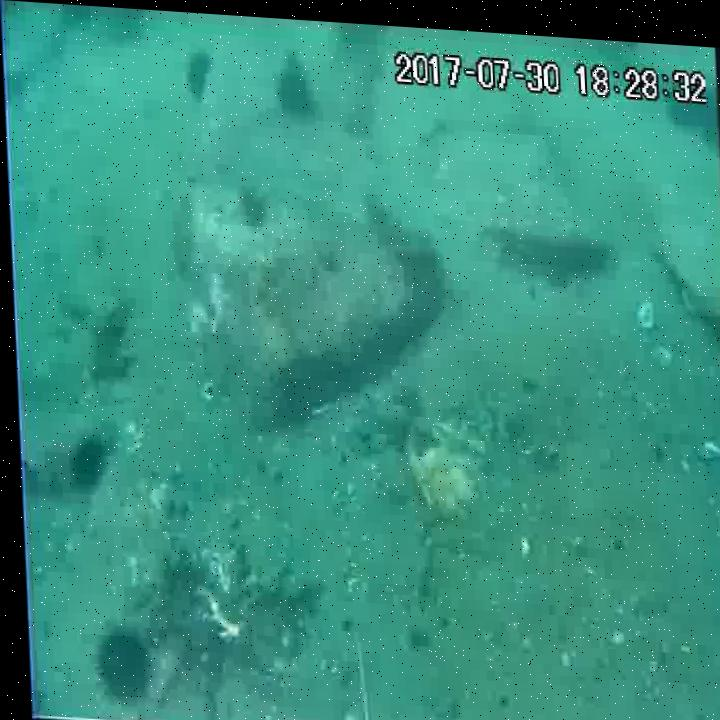echinus: (86, 621, 149, 707), (661, 64, 719, 128), (271, 50, 318, 117), (61, 431, 107, 495), (188, 47, 215, 105)
